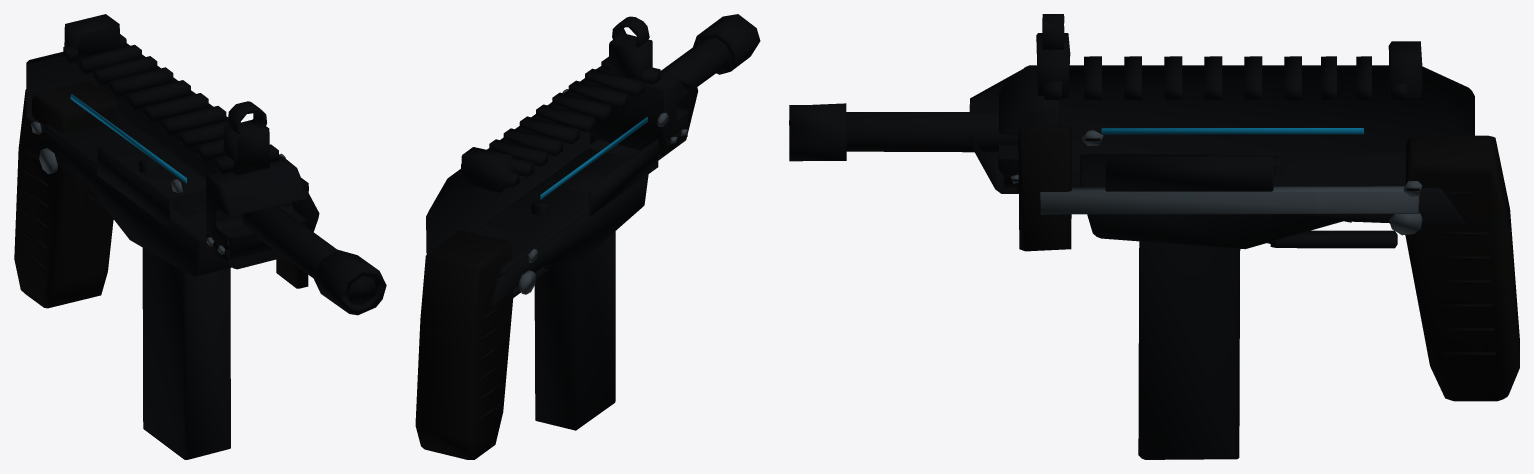
File: weapon_smg.glb
3 views of the same model, side by side, from view 1: azimuth 30°, elevation 25°; view 2: azimuth 150°, elevation 25°; view 3: azimuth 270°, elevation 25° (orthographic). The views are drawn at different scales.
Visible parts, largest first — view 1: weapon_smg; view 2: weapon_smg; view 3: weapon_smg.
Part boxes in pixels (box(x1,y1,x2,y2)): weapon_smg: box(14, 14, 386, 459); weapon_smg: box(415, 14, 760, 459); weapon_smg: box(789, 14, 1519, 459).
Size of the model in its own units: 0.0896 by 0.2994 by 0.4591.
1 material, 1 textured.
